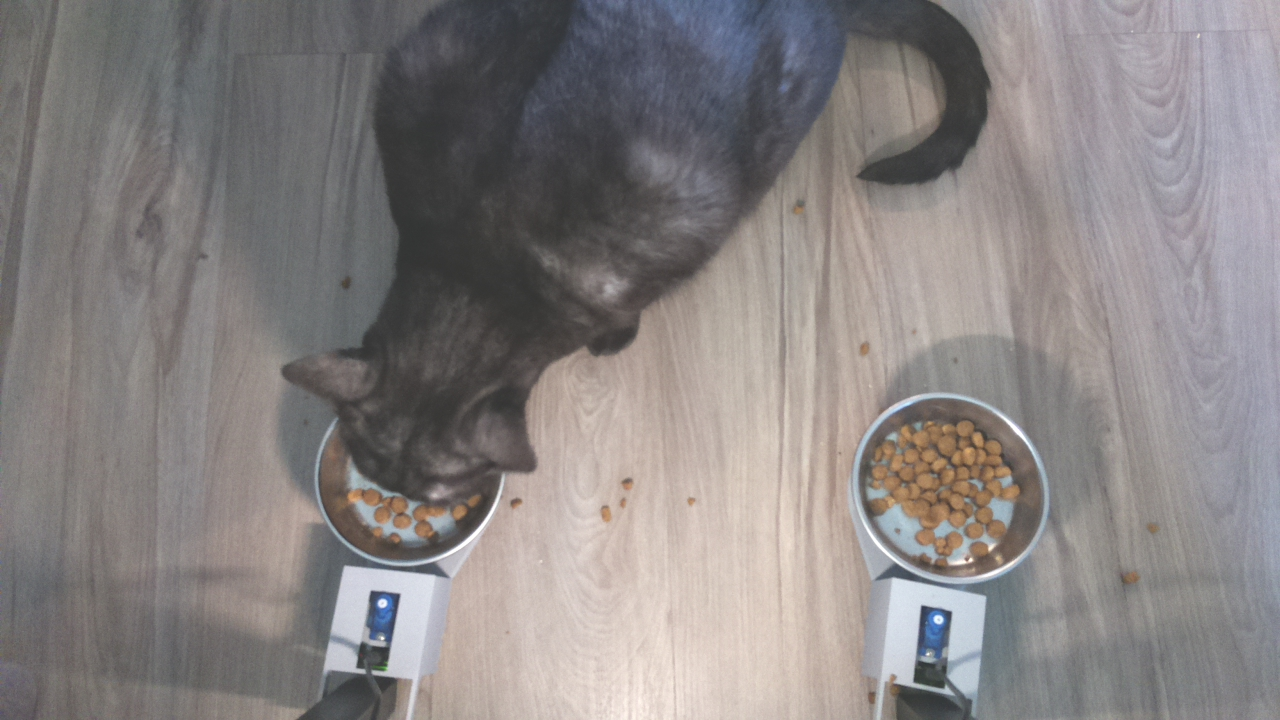open_bowl: (850, 383, 1054, 594)
saki_eating: (270, 286, 549, 578)
